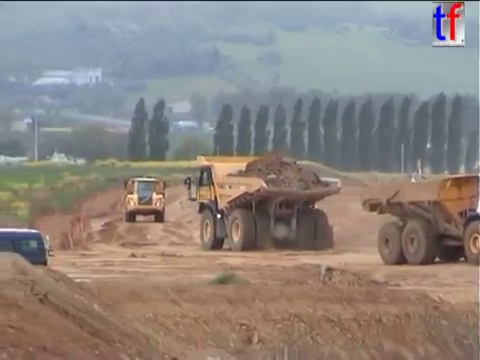motor grader: (250, 163, 335, 250)
truck: (183, 153, 343, 251), (357, 172, 480, 267), (1, 225, 56, 291), (121, 173, 168, 224)
